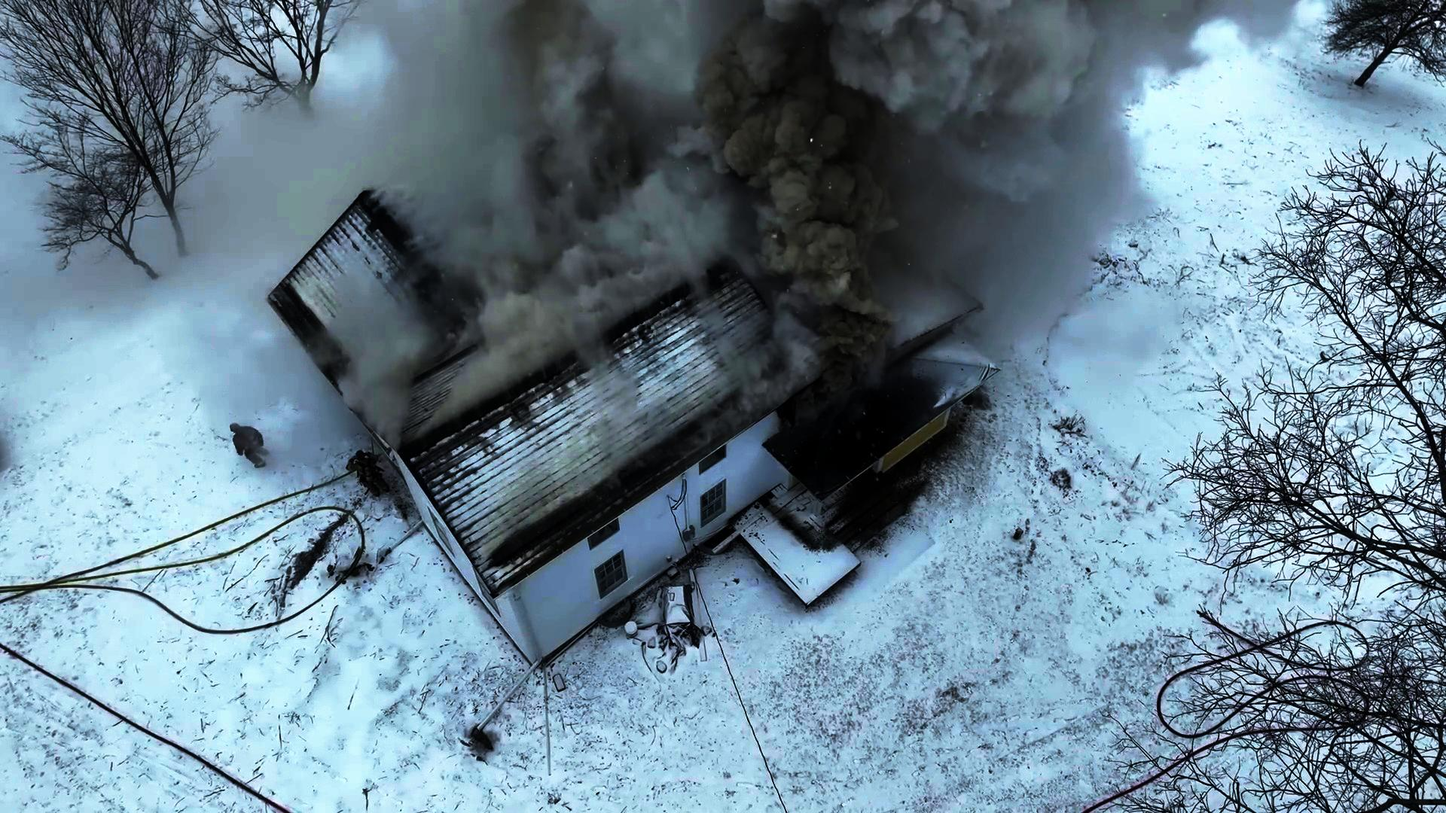smoke: (718, 17, 885, 404), (509, 14, 630, 252)
